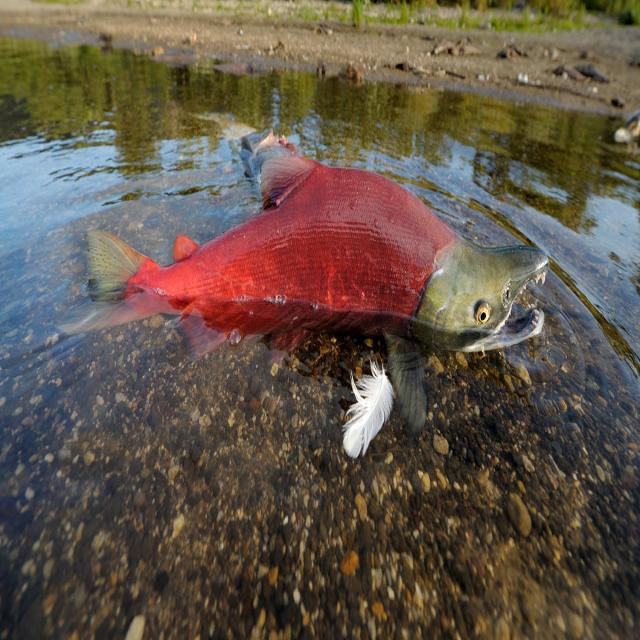salmon: (88, 126, 561, 405)
